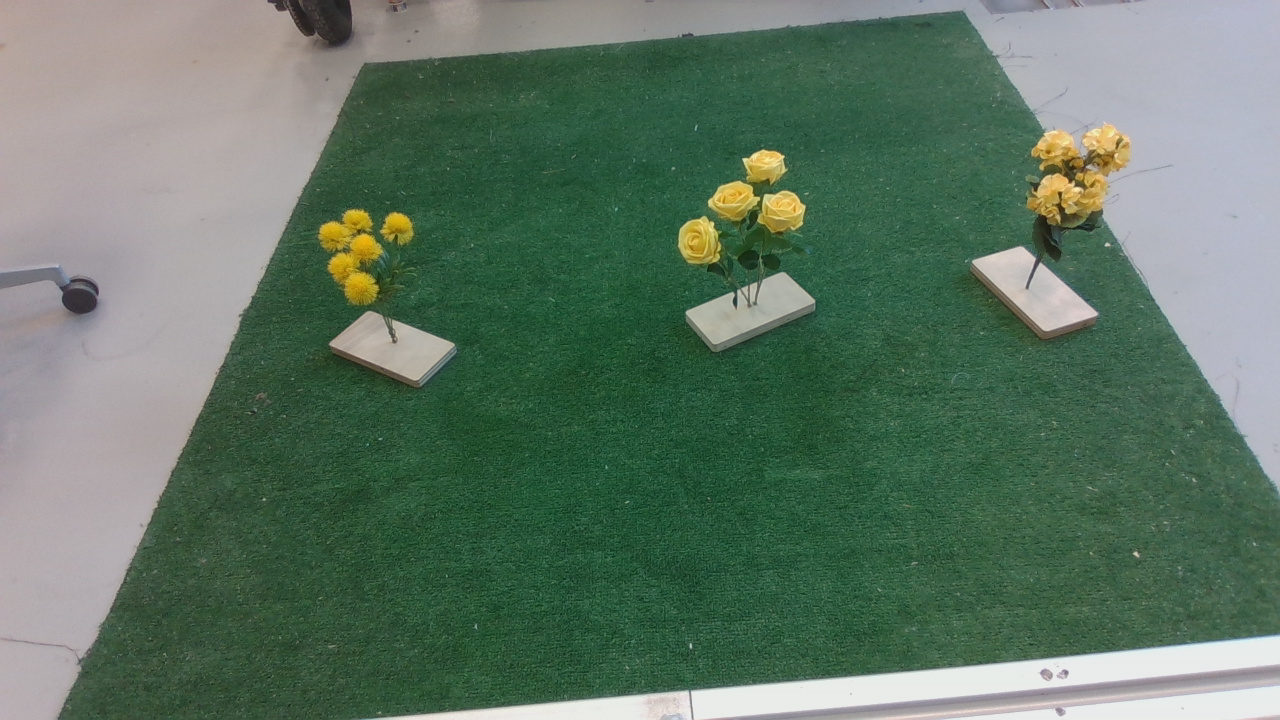dandelion: (312, 205, 425, 334)
geranium: (1024, 123, 1144, 267)
rose: (675, 145, 818, 286)
